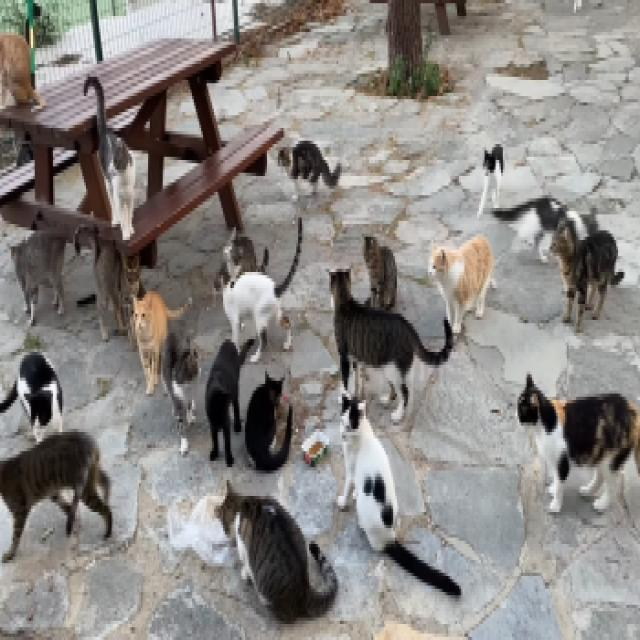cat: (341, 399, 459, 594), (332, 269, 450, 421), (216, 481, 337, 621), (517, 374, 640, 511), (0, 431, 110, 561), (215, 219, 301, 362), (551, 214, 624, 331), (84, 77, 135, 240), (76, 228, 143, 345), (494, 197, 599, 261), (429, 238, 495, 334), (206, 339, 253, 465), (133, 291, 186, 395), (11, 232, 64, 325), (245, 372, 293, 469), (161, 332, 197, 454), (277, 140, 341, 200), (0, 34, 45, 106), (223, 230, 269, 279), (366, 236, 394, 307), (481, 144, 501, 215)
